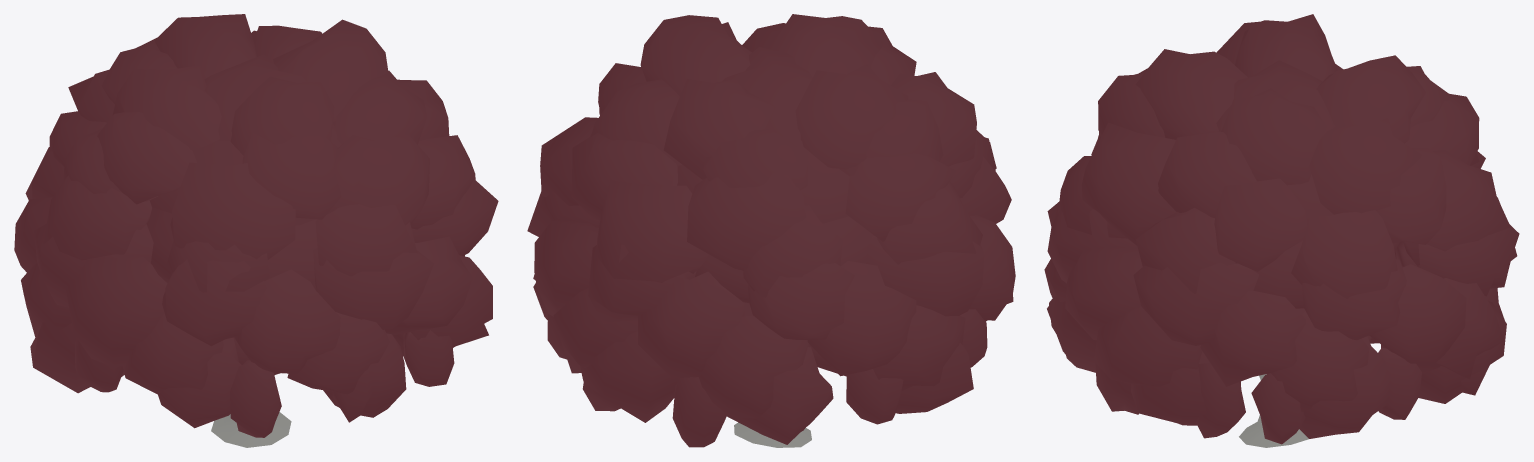
File: Blender_CopperBeech_2.glb
3 views of the same model, side by side, from view 1: azimuth 30°, elevation 25°; view 2: azimuth 150°, elevation 25°; view 3: azimuth 270°, elevation 25° (orthographic). The views are drawn at different scales.
Visible parts, largest first — view 1: Blender_CopperBeech_2; view 2: Blender_CopperBeech_2; view 3: Blender_CopperBeech_2.
Boxes of the visible parts, x1,y1,x2,y2 form: Blender_CopperBeech_2: (14,14,498,447); Blender_CopperBeech_2: (527,14,1015,447); Blender_CopperBeech_2: (1044,14,1519,447).
Bounding box in the file's own units: 24.05 × 21.32 × 24.08.
